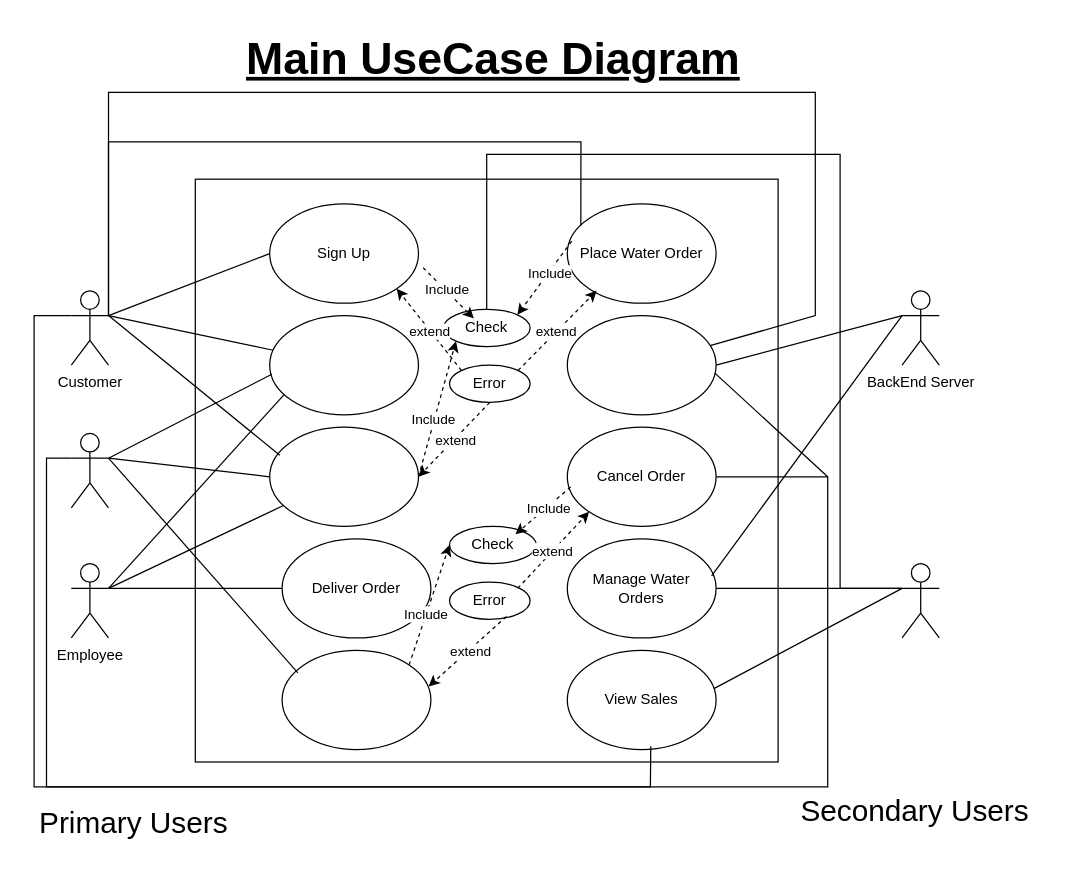
This 1065x869 diagram has some shape labels left out. The centre of each missing label's shape, as x and y in pixels:
"Admin" belongs at (89,470).
"Data Base" belongs at (920,600).
"Login" belongs at (343,364).
"Manage Customer & Employees" belongs at (356,699).
"Track Order Status" belongs at (641,364).
"Update Account" belongs at (343,476).
